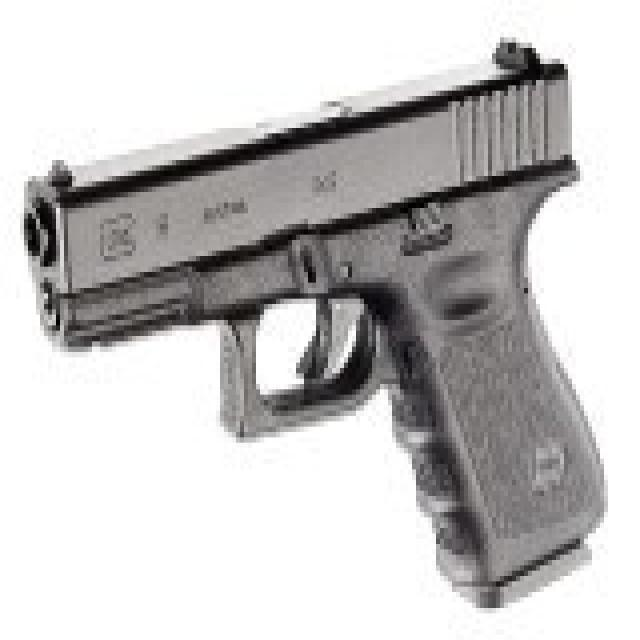Gun: (28, 38, 609, 587)
